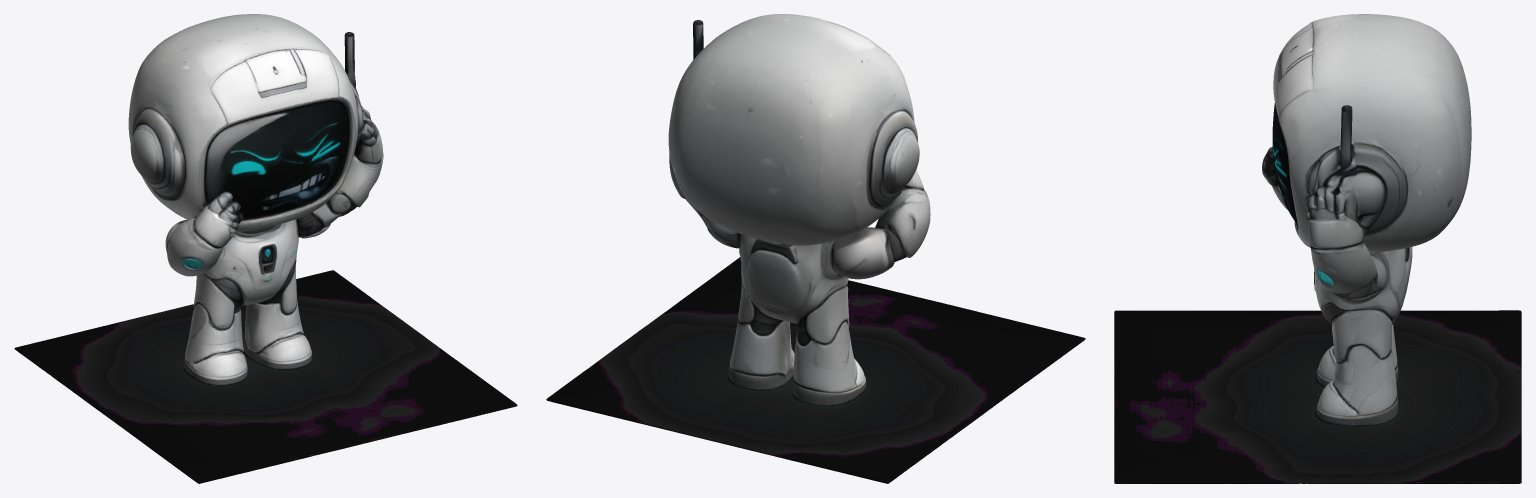
File: robot_grimace.glb
3 views of the same model, side by side, from view 1: azimuth 30°, elevation 25°; view 2: azimuth 150°, elevation 25°; view 3: azimuth 270°, elevation 25° (orthographic). The views are drawn at different scales.
Visible parts, largest first — view 1: geometry_0; view 2: geometry_0; view 3: geometry_0.
Boxes of the visible parts, x1,y1,x2,y2 form: geometry_0: (14, 14, 517, 483); geometry_0: (546, 14, 1085, 483); geometry_0: (1114, 14, 1521, 483).
Bounding box in the file's own units: 1 × 0.9994 × 0.9997.
1 material, 1 textured.
